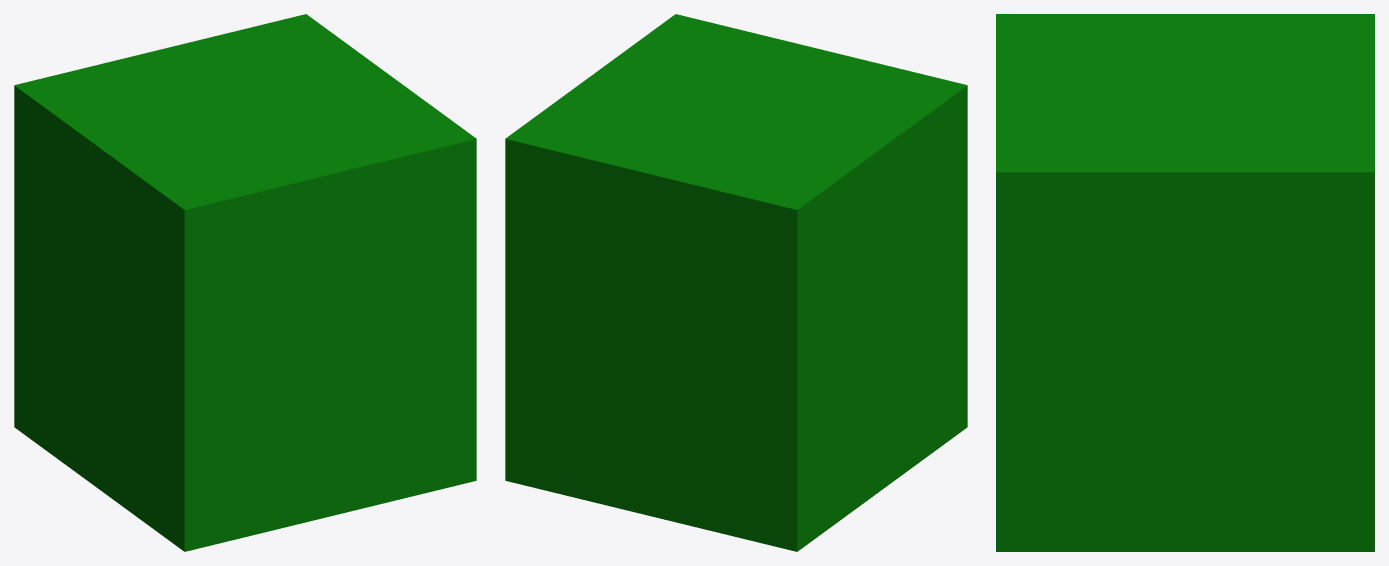
File: cubo.obj
3 renders of one model, left to right at view 1: azimuth 30°, elevation 25°; view 2: azimuth 150°, elevation 25°; view 3: azimuth 270°, elevation 25°, orthographic. The views are drawn at different scales.
Visible parts, largest first — view 1: Layer0_001; view 2: Layer0_001; view 3: Layer0_001.
Part boxes in pixels (x1=…): Layer0_001: x1=14, y1=14, x2=476, y2=551; Layer0_001: x1=505, y1=14, x2=967, y2=551; Layer0_001: x1=996, y1=14, x2=1374, y2=551.
Bounding box in the file's own units: 855 × 956 × 865.
